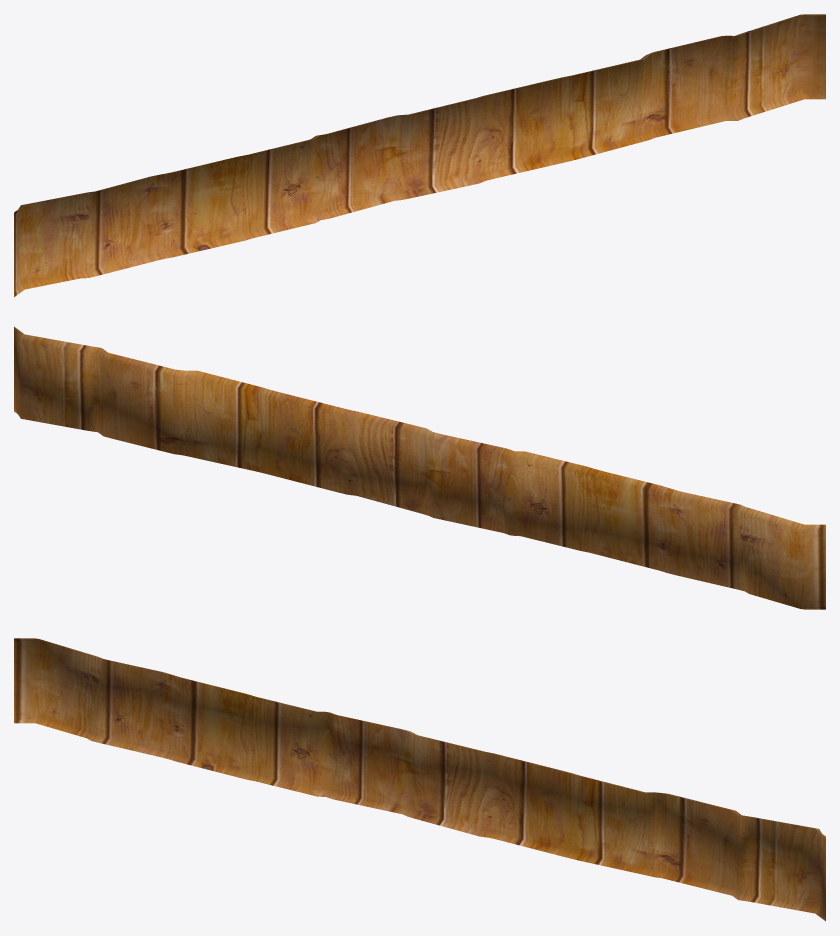
Rendered from woodWallLower.fbx.
3 views of the same model, one above another, from view 1: azimuth 30°, elevation 25°; view 2: azimuth 150°, elevation 25°; view 3: azimuth 330°, elevation 25° (orthographic).
Parts seen in each view (by area): view 1: WoodWallLower_LOD0; view 2: WoodWallLower_LOD0; view 3: WoodWallLower_LOD0.
Boxes of the visible parts, x1=… form: WoodWallLower_LOD0: x1=14, y1=14, x2=825, y2=297; WoodWallLower_LOD0: x1=14, y1=326, x2=825, y2=609; WoodWallLower_LOD0: x1=14, y1=638, x2=825, y2=921.
Size of what is drawn, in the model's own units: 500 by 49.99 by 10.6.
